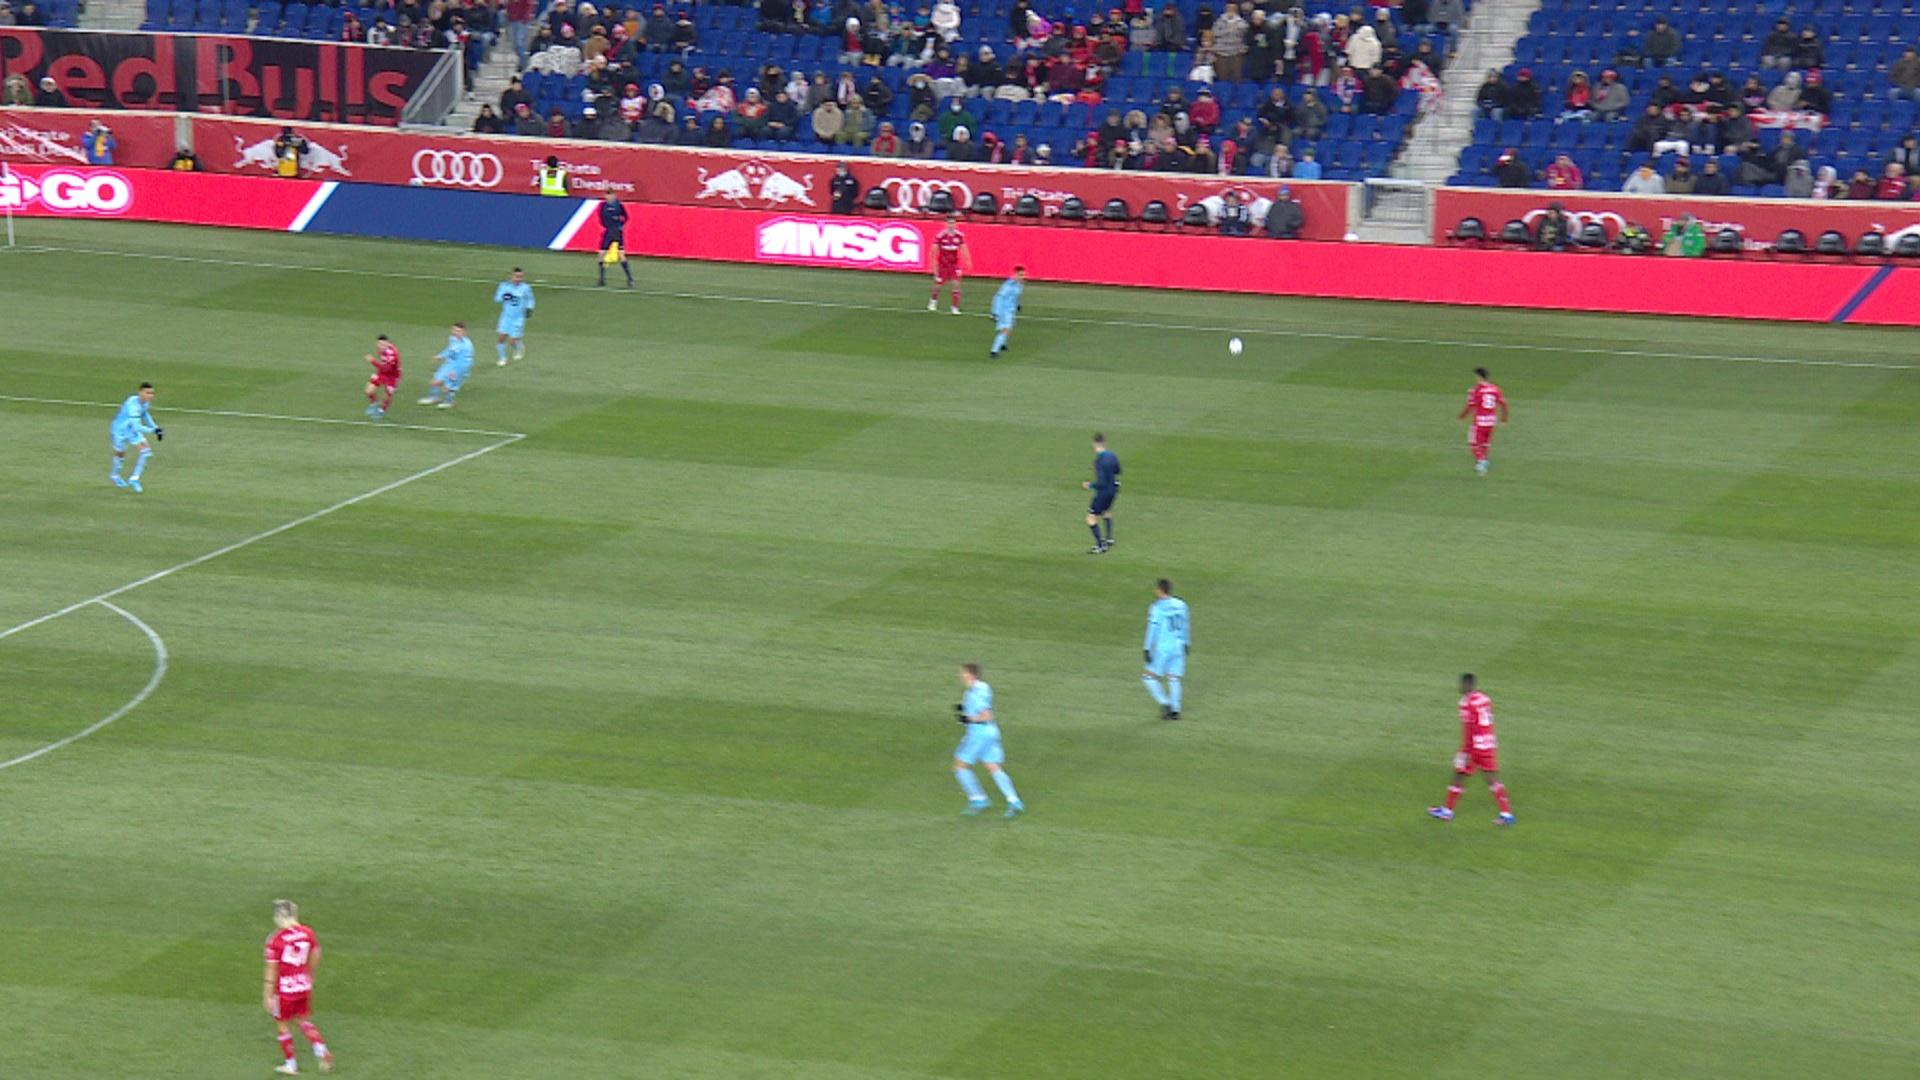football: (1228, 336, 1244, 357)
